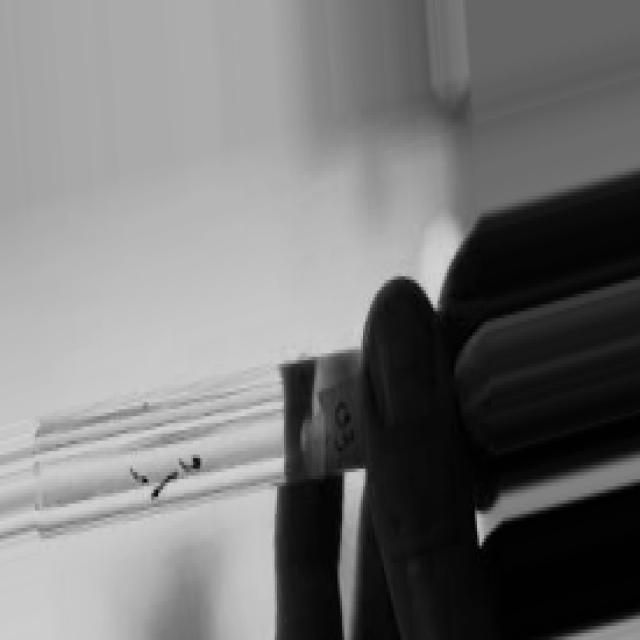larvas: (153, 472, 177, 496), (179, 454, 203, 472), (130, 469, 150, 488)
